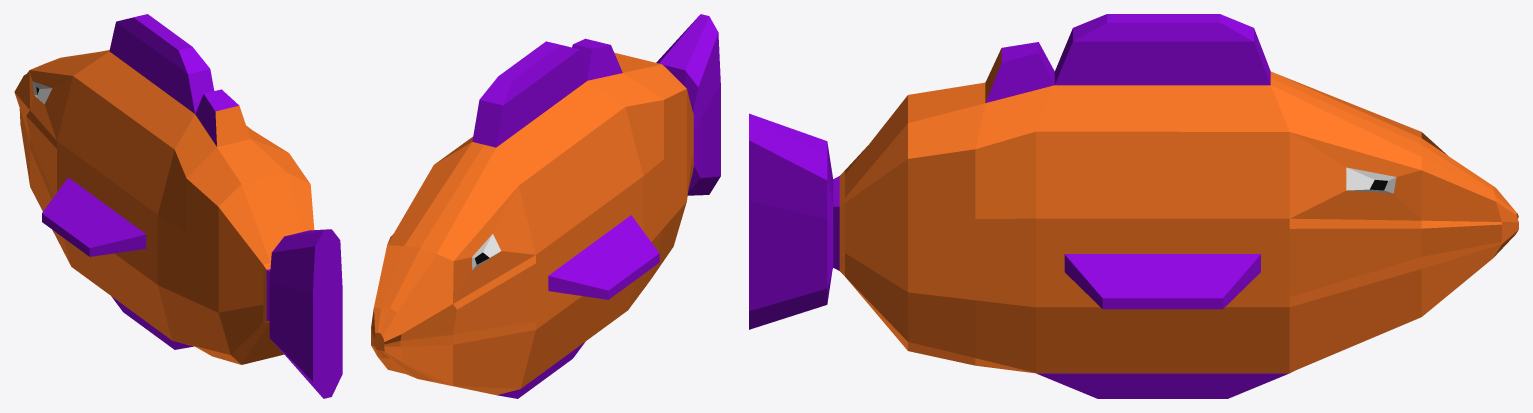
Rendered from PezCometa.fbx.
The picture shows the model from 3 angles, left to right: view 1: azimuth 30°, elevation 25°; view 2: azimuth 150°, elevation 25°; view 3: azimuth 270°, elevation 25°; orthographic projection. The views are drawn at different scales.
Visible parts, largest first — view 1: Pececito; view 2: Pececito; view 3: Pececito.
Boxes of the visible parts, x1,y1,x2,y2 form: Pececito: (14, 14, 342, 398); Pececito: (371, 14, 720, 398); Pececito: (749, 14, 1518, 398).
Bounding box in the file's own units: 316 × 456 × 856.
